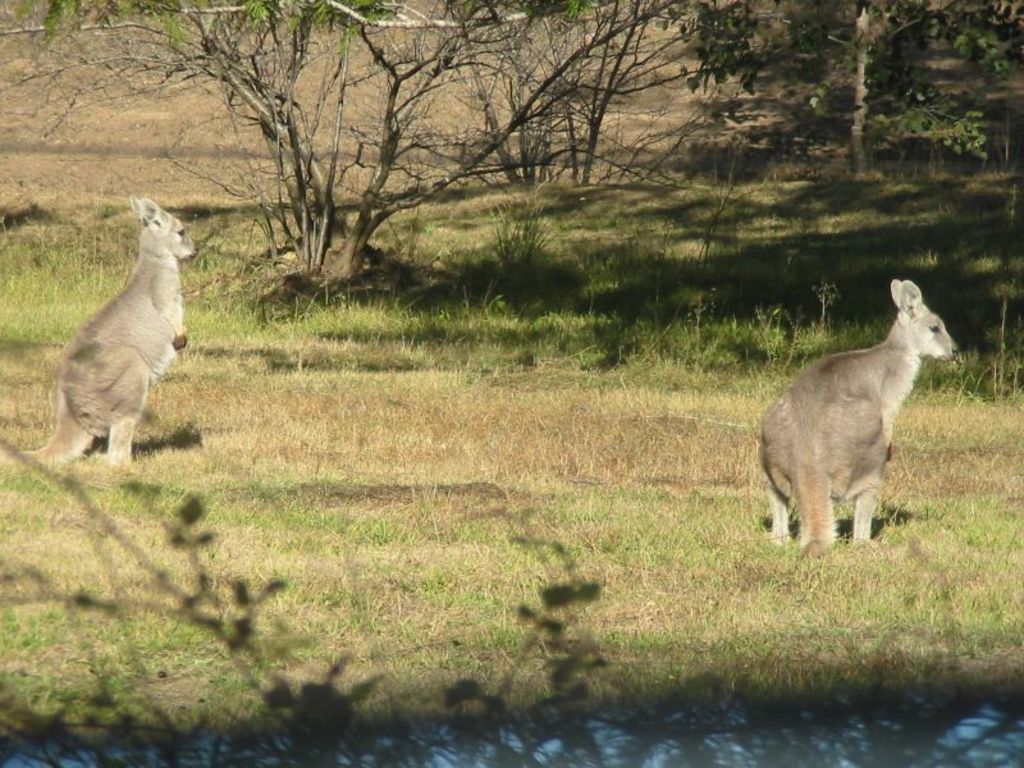kangaroo: (753, 276, 957, 545)
